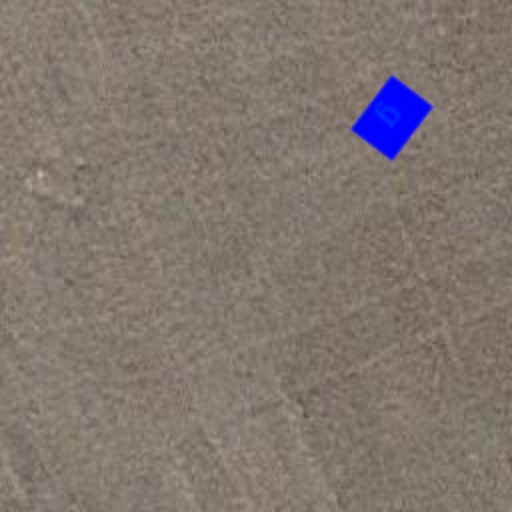rectangle: (342, 68, 442, 168)
